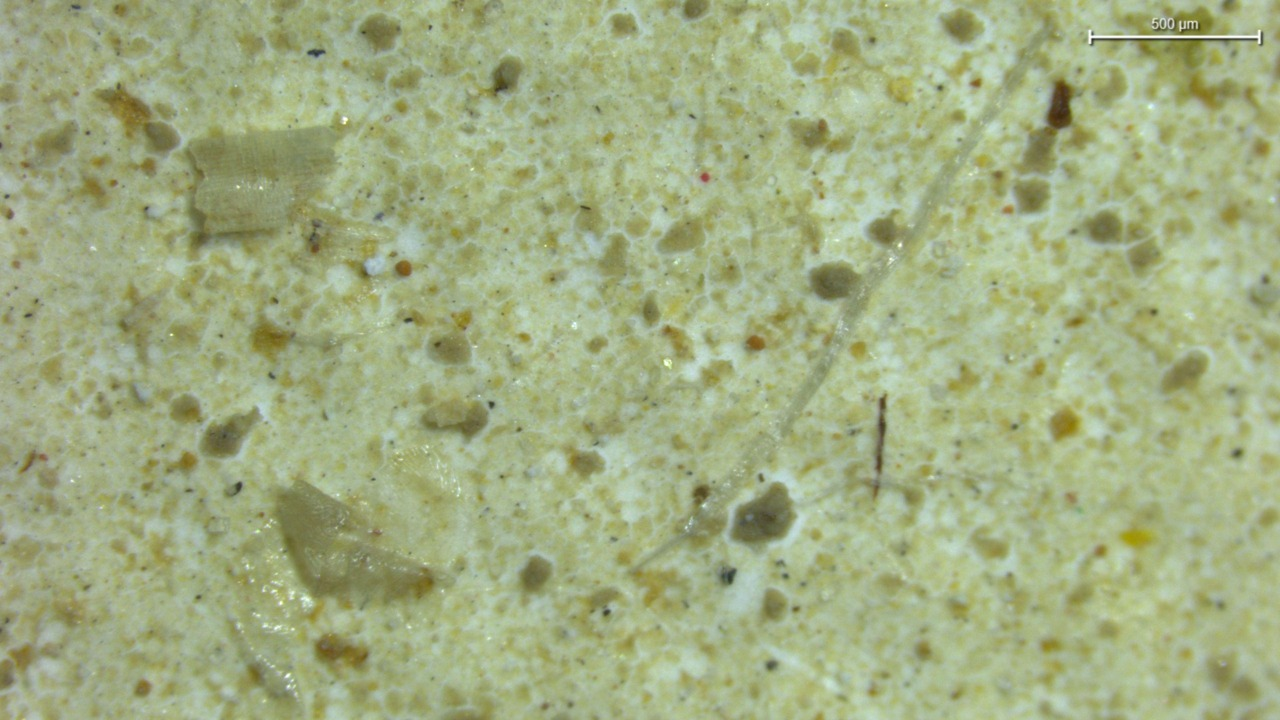microplastic_fragment: (279, 481, 432, 604), (188, 127, 340, 234), (363, 255, 385, 276)
